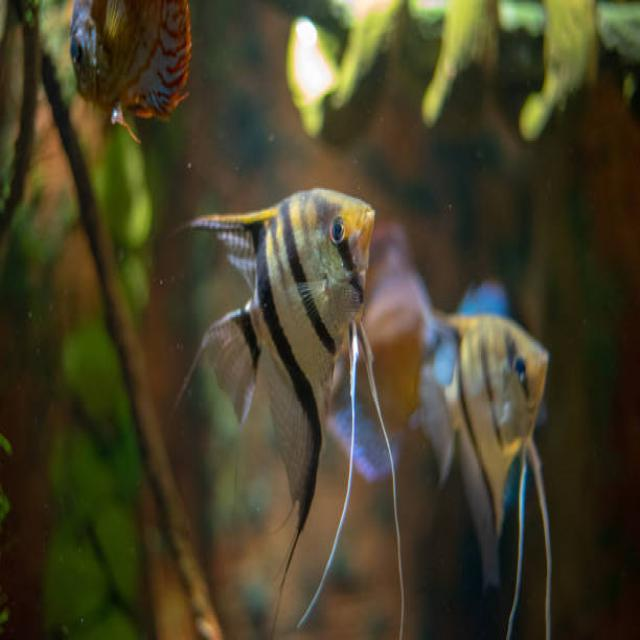AngelFish: (185, 188, 379, 579), (436, 299, 560, 640)
